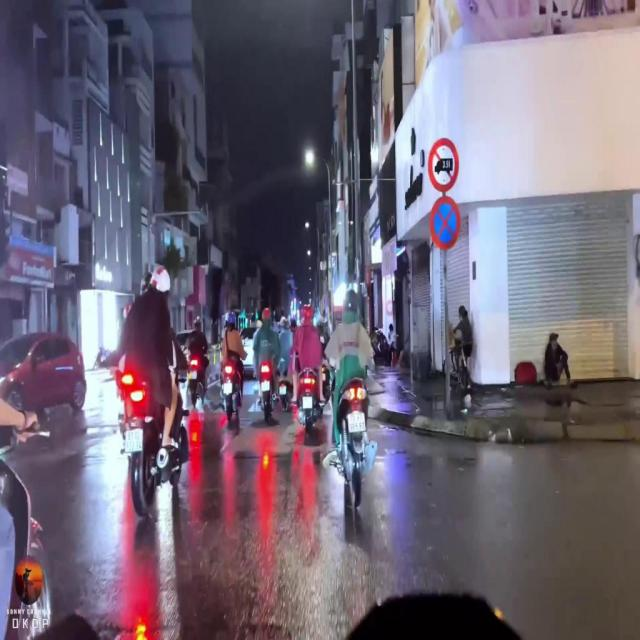cam_dung_xe_va_do_xe: (428, 196, 459, 250)
cam_o_to_tai: (428, 138, 458, 192)
